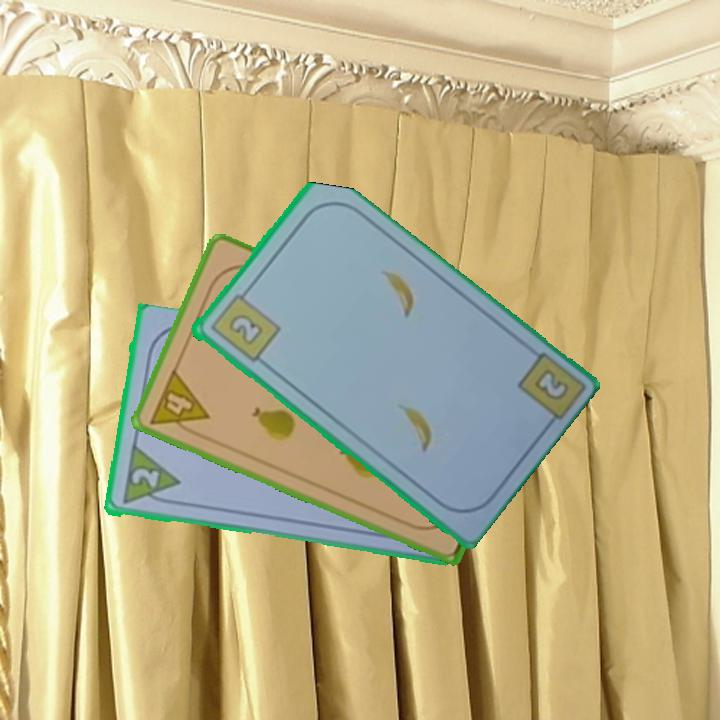2b: (206, 284, 283, 365), (530, 365, 572, 404)
2p: (118, 444, 182, 508)
4p: (145, 365, 212, 441)
